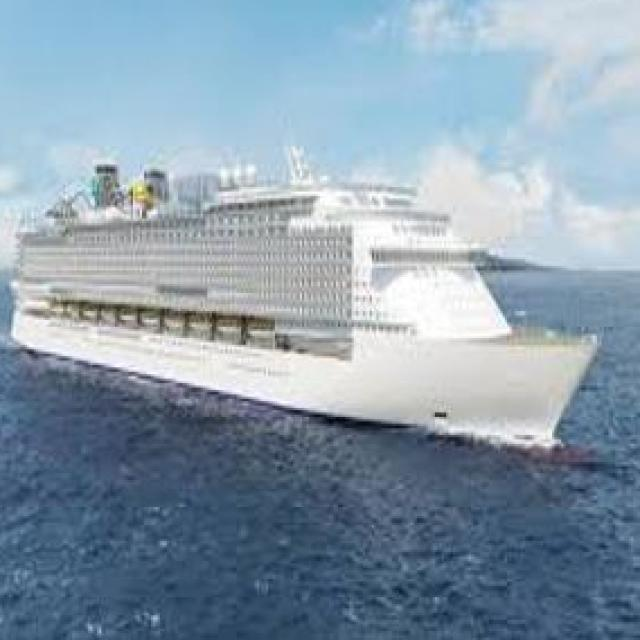passenger ship: (6, 150, 600, 453)
